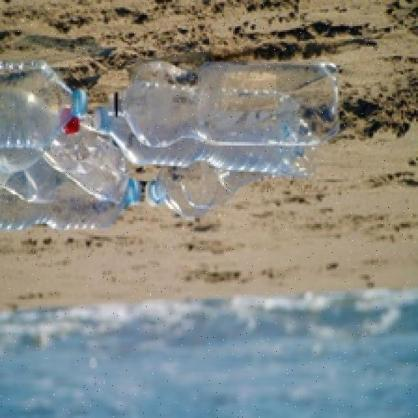bottle: (0, 43, 342, 233), (325, 235, 329, 237)
cap: (63, 116, 81, 135)
